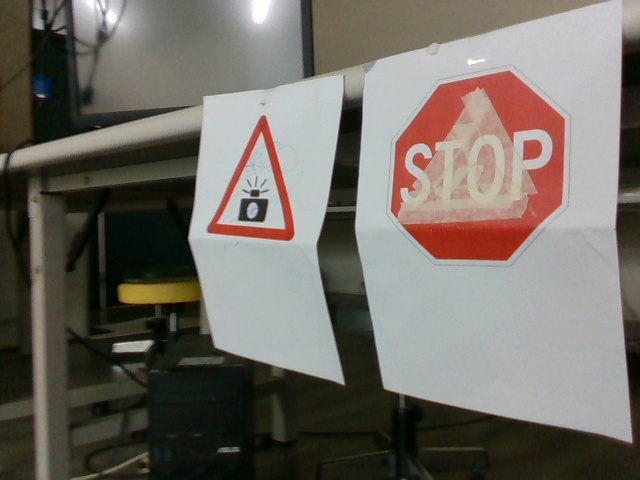camera: (213, 113, 293, 242)
stop: (397, 77, 565, 264)
